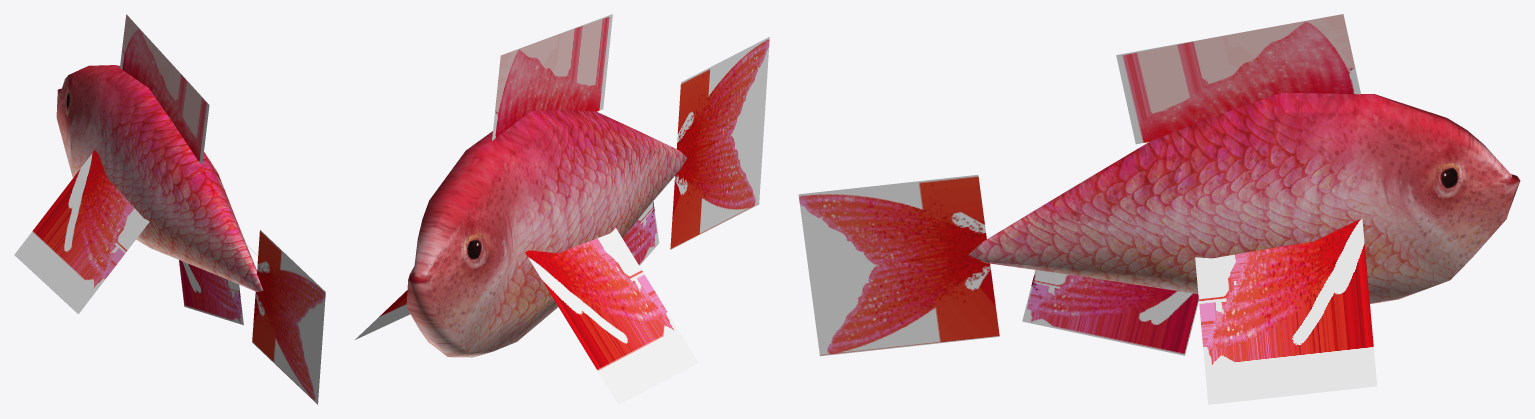
Rendered from Fish_red.fbx.
3 renders of one model, left to right at view 1: azimuth 30°, elevation 25°; view 2: azimuth 150°, elevation 25°; view 3: azimuth 270°, elevation 25°, orthographic. The views are drawn at different scales.
Parts seen in each view (by area): view 1: pPlane10; view 2: pPlane10; view 3: pPlane10.
Boxes of the visible parts, x1=… form: pPlane10: x1=14, y1=14, x2=325, y2=404; pPlane10: x1=355, y1=14, x2=769, y2=404; pPlane10: x1=798, y1=14, x2=1520, y2=404.
Bounding box in the file's own units: 2.45 × 2.99 × 5.71.
